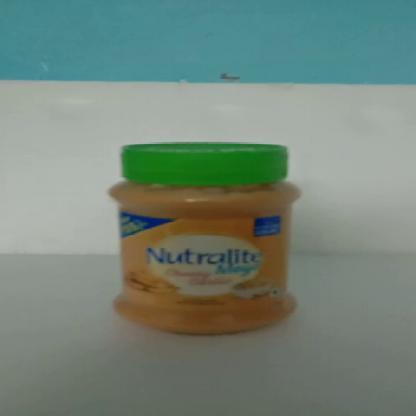Nutralite CHEESY GARLIC MAYO 300g-275g-25g-: (121, 145, 283, 318), (319, 312, 320, 317)
